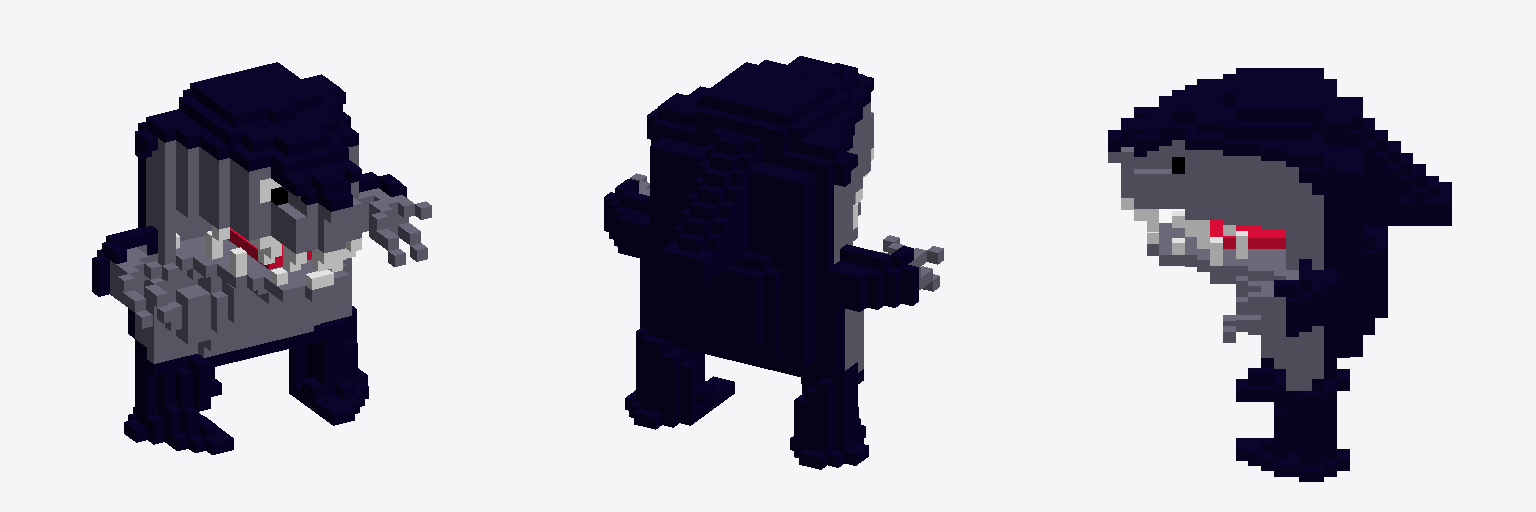
3 renders of one model, left to right at view 1: azimuth 30°, elevation 25°; view 2: azimuth 150°, elevation 25°; view 3: azimuth 270°, elevation 25°, orthographic.
Parts seen in each view (by area): view 1: Model; view 2: Model; view 3: Model.
Part boxes in pixels (bbox=[...]): Model: bbox=[92, 62, 431, 454]; Model: bbox=[604, 56, 943, 469]; Model: bbox=[1108, 68, 1451, 481].
Bounding box in the file's own units: 28 × 29 × 27.
1 materials, 1 textured.